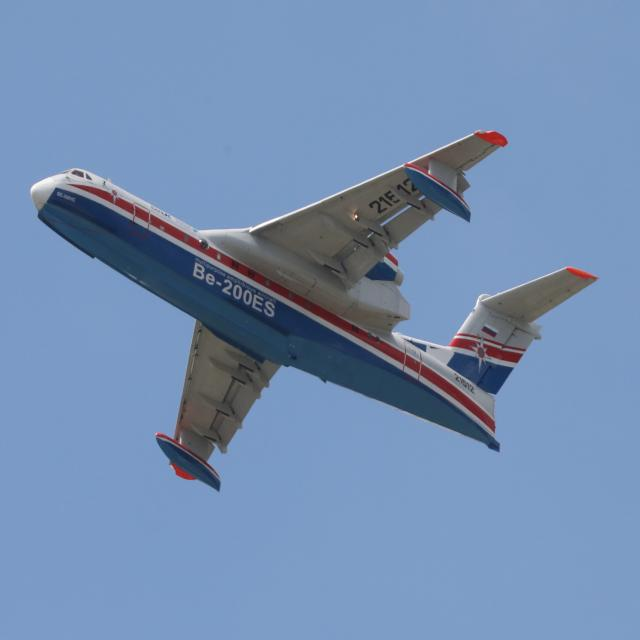MIL_Plane: (31, 255, 600, 362)
